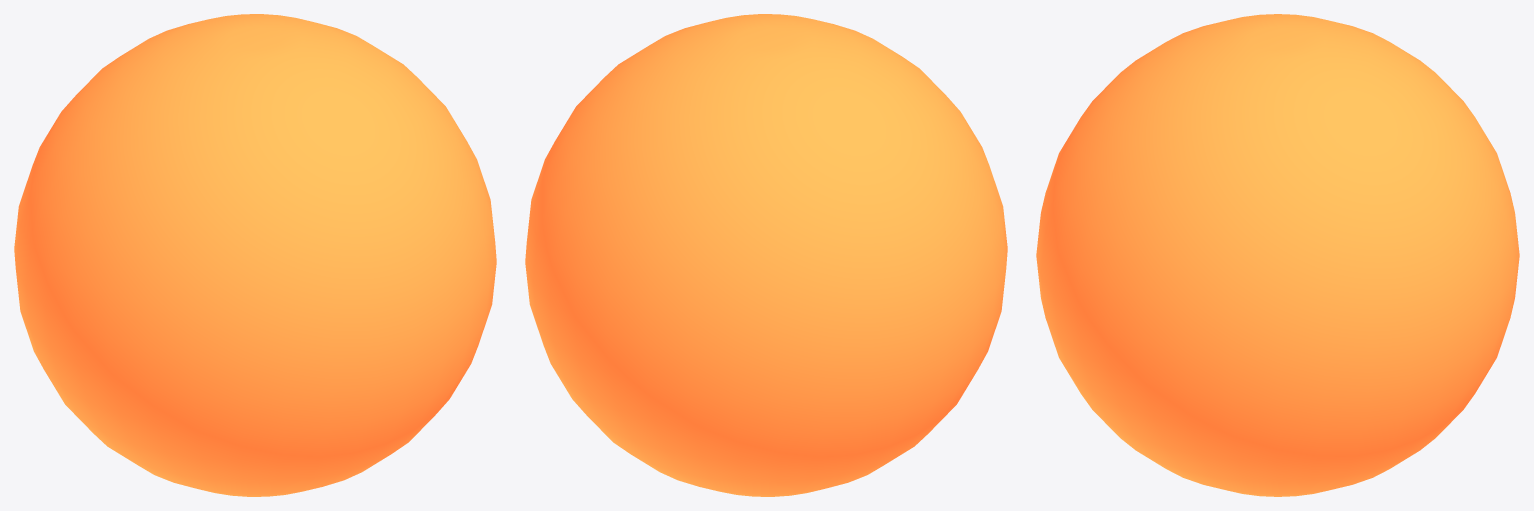
Rendered from Explosion.glb.
3 views of the same model, side by side, from view 1: azimuth 30°, elevation 25°; view 2: azimuth 150°, elevation 25°; view 3: azimuth 270°, elevation 25° (orthographic).
Visible parts, largest first — view 1: Sphere; view 2: Sphere; view 3: Sphere.
Part boxes in pixels (bbox=[...]): Sphere: bbox=[14, 14, 496, 496]; Sphere: bbox=[525, 14, 1007, 496]; Sphere: bbox=[1036, 14, 1519, 496].
Bounding box in the file's own units: 2 × 1.98 × 2.
